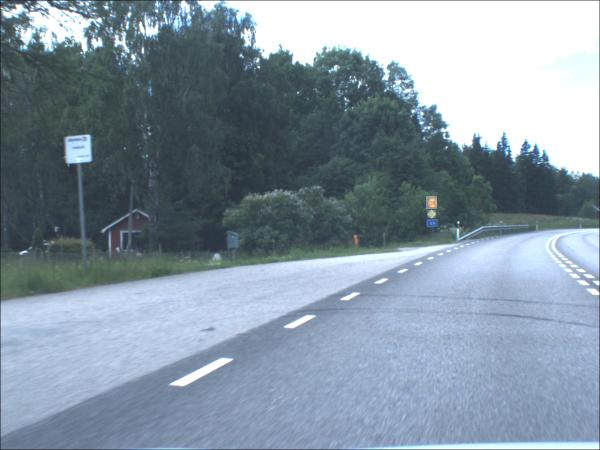80_SIGN: (426, 197, 438, 211)
PRIORITY_ROAD: (427, 211, 437, 220)
